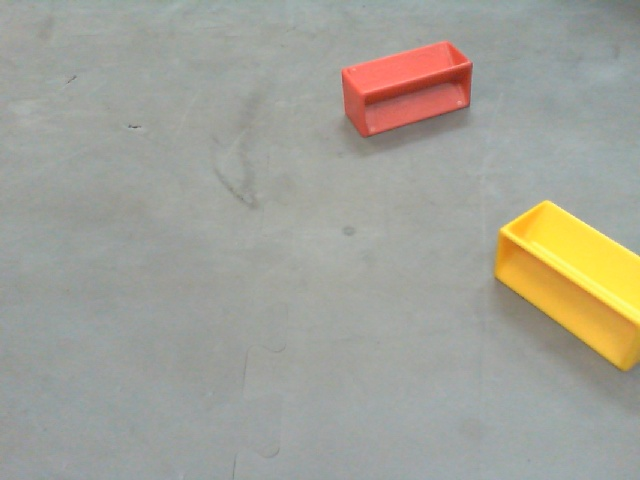RedSample: (339, 40, 471, 138)
YellowSample: (493, 198, 640, 367)
